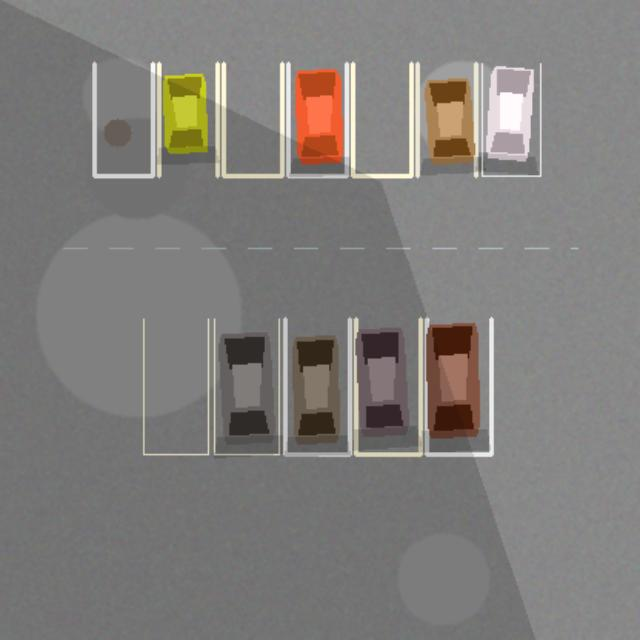space-empty: (143, 318, 208, 454), (223, 63, 282, 175), (352, 63, 411, 175), (94, 63, 152, 175)
space-occupied: (355, 318, 420, 454), (426, 318, 491, 454), (214, 318, 278, 454), (285, 318, 349, 454), (158, 63, 217, 175), (288, 63, 346, 175), (417, 63, 475, 175), (482, 63, 540, 175)
